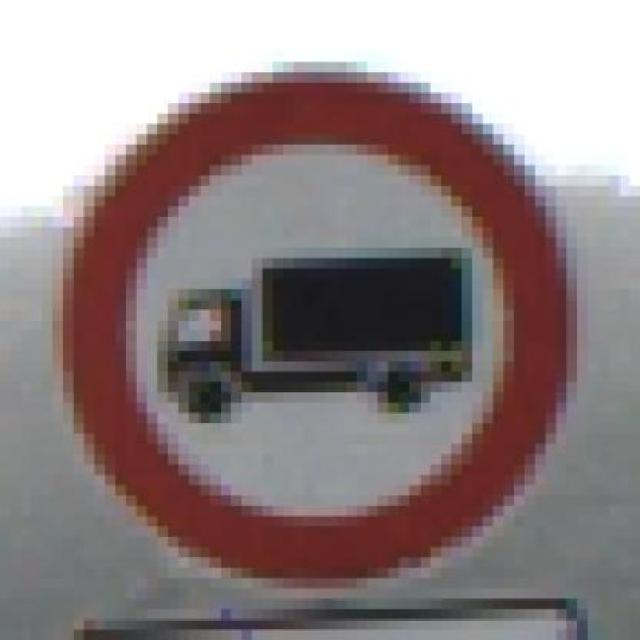Truck traffic is prohibited: (30, 51, 588, 588)
